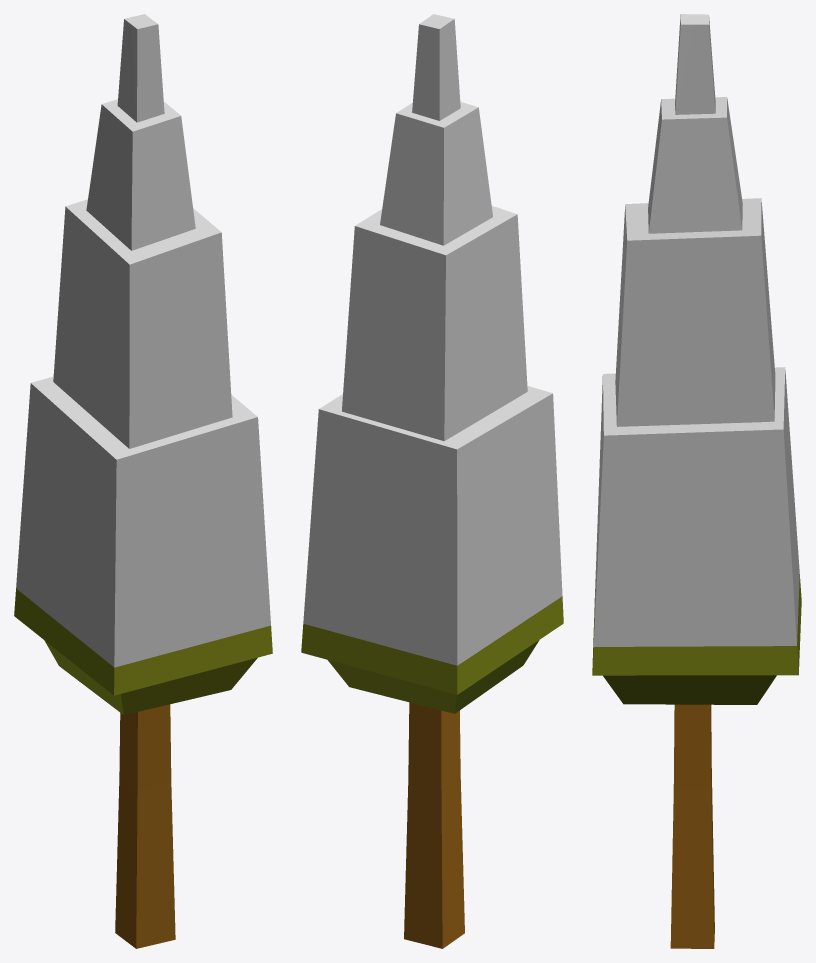
Rendered from SF_Env_Tree_Snow_08.fbx.
3 views of the same model, side by side, from view 1: azimuth 30°, elevation 25°; view 2: azimuth 150°, elevation 25°; view 3: azimuth 270°, elevation 25° (orthographic).
Parts seen in each view (by area): view 1: SF_Env_Tree_Snow_08; view 2: SF_Env_Tree_Snow_08; view 3: SF_Env_Tree_Snow_08.
Boxes of the visible parts, x1,y1,x2,y2 form: SF_Env_Tree_Snow_08: (14,14,272,948); SF_Env_Tree_Snow_08: (301,14,563,948); SF_Env_Tree_Snow_08: (592,14,801,948).
Bounding box in the file's own units: 1.73 × 9.43 × 1.95.
